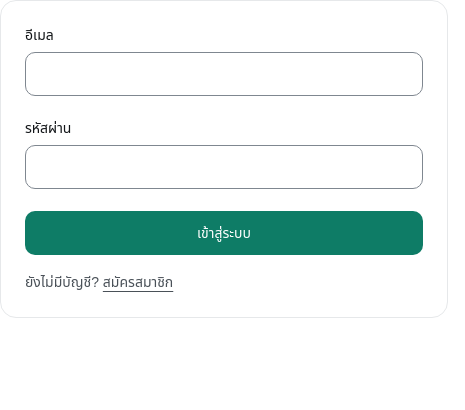
Scenario: SignInForm › shows one generic message for a refused sign-in and stays on the page
The image size is (465, 410).
Step 1. Type "a@example.com" into the field labelled "อีเมล" → (224, 74), box x1=25 y1=52 x2=423 y2=96
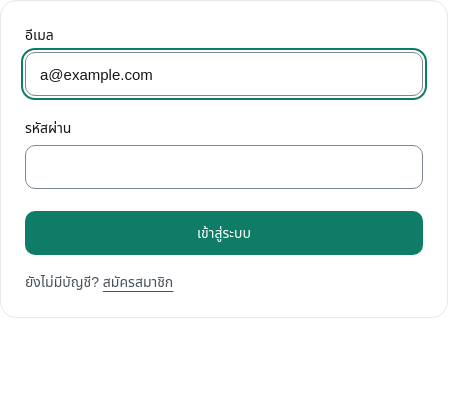
Step 2. Type "secret" into the password field labelled "รหัสผ่าน" → (224, 167), box x1=25 y1=145 x2=423 y2=189
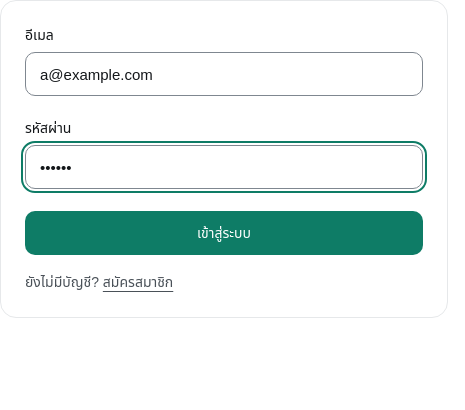
Step 3. Click the button "เข้าสู่ระบบ" → (224, 233), box x1=25 y1=211 x2=423 y2=255
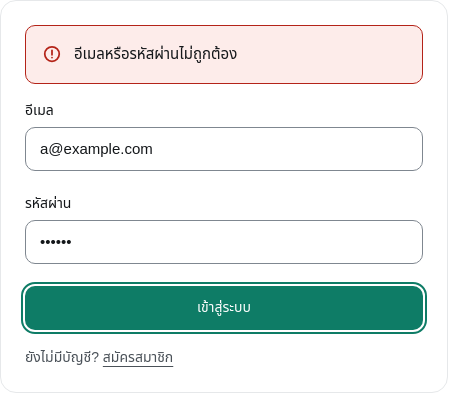
Expected: the button "เข้าสู่ระบบ" is enabled, x1=25 y1=286 x2=423 y2=330
Expected: the text "อีเมลหรือรหัสผ่านไม่ถูกต้อง" is shown, x1=74 y1=45 x2=237 y2=62
